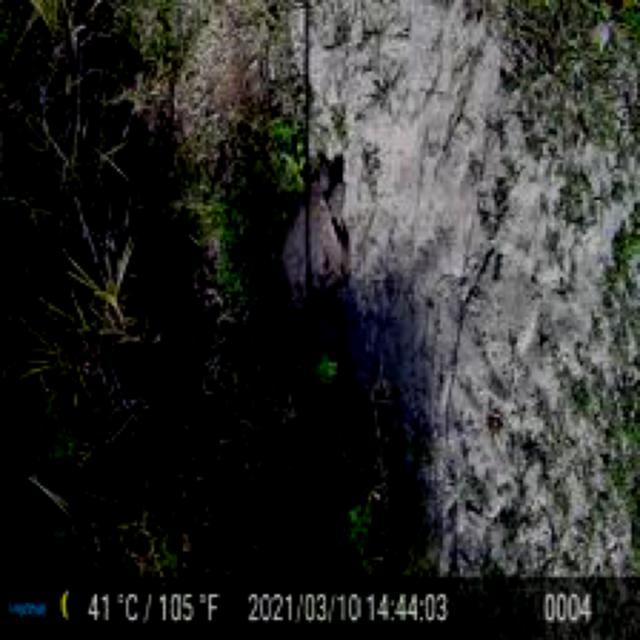tortoise: (274, 152, 348, 315)
